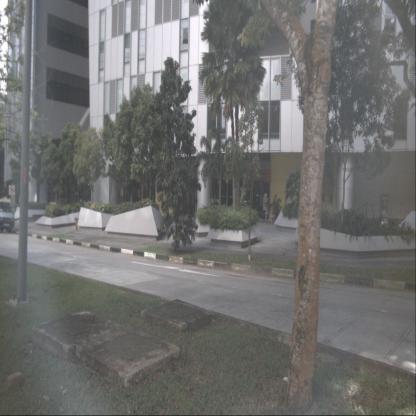human-pedestrian-adult: (264, 196, 273, 226)
vehicle-car: (0, 201, 15, 233)
